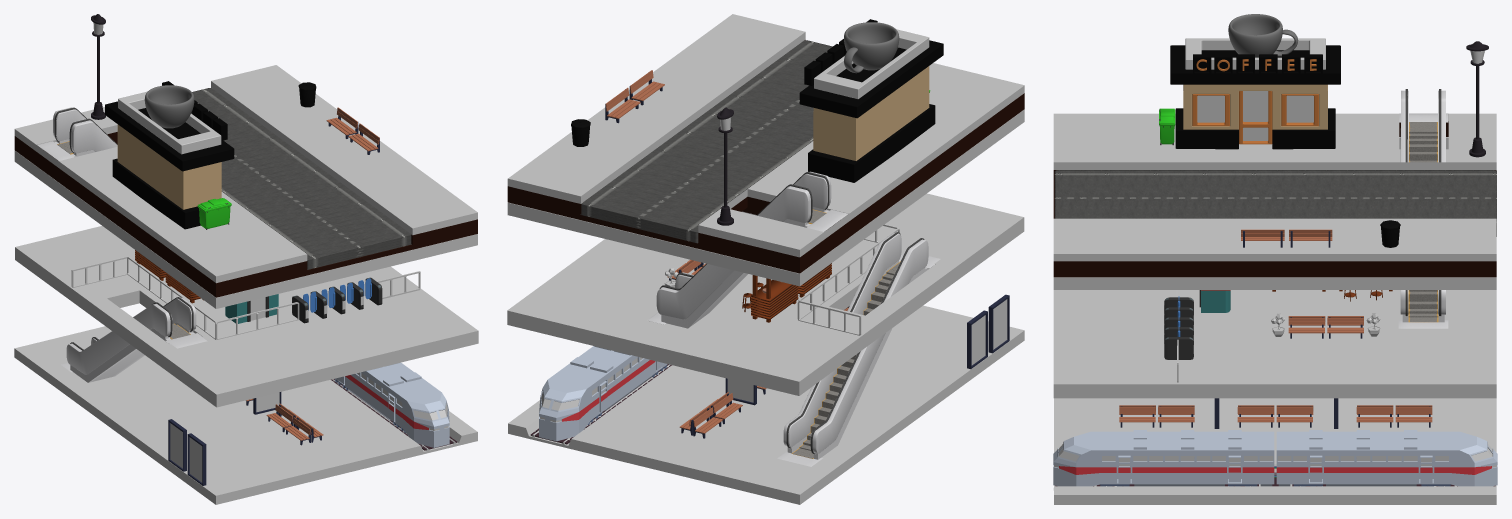
Rendered from DioramaFinal_forWebGPU.obj.
3 views of the same model, side by side, from view 1: azimuth 30°, elevation 25°; view 2: azimuth 150°, elevation 25°; view 3: azimuth 270°, elevation 25° (orthographic). The views are drawn at different scales.
Parts seen in each view (by area): view 1: Plane, Platform, Cube.015, Road, Cube.016, Plane.016, Train, SMS_Escalator_02.001, Plane.004, Plane.005, SMS_Escalator_02, Plane.006 (+7 smaller); view 2: Plane, Platform, Cube.015, Road, SMS_Escalator_02.001, Cube.016, Plane.016, Train, SMS_Escalator_02, Plane.004, Plane.005, Plane.015 (+9 smaller); view 3: Plane, Cube.015, Train, Road, Platform, Cube.016, Plane.016, Plane.004, SMS_Escalator_02, Plane.005, Plane.015, Circle (+16 smaller).
Part boxes in pixels (box(x1,y1,x2,y2)): Plane: box(15, 226, 478, 407); Platform: box(14, 326, 477, 504); Cube.015: box(14, 65, 477, 283); Road: box(192, 88, 411, 269); Cube.016: box(14, 132, 477, 297); Plane.016: box(14, 150, 477, 308); Train: box(334, 362, 449, 447); SMS_Escalator_02.001: box(61, 297, 207, 382); Plane.004: box(117, 124, 221, 209); Plane.005: box(105, 101, 234, 171); SMS_Escalator_02: box(37, 107, 117, 160); Plane.006: box(118, 91, 221, 154); Plane: box(507, 193, 1024, 395); Platform: box(508, 305, 1024, 504); Cube.015: box(507, 14, 1024, 257); Road: box(580, 40, 832, 243); SMS_Escalator_02.001: box(777, 232, 940, 466); Cube.016: box(507, 40, 1024, 273); Plane.016: box(507, 109, 1024, 286); Train: box(539, 346, 667, 441); SMS_Escalator_02: box(647, 171, 847, 328); Plane.004: box(813, 66, 929, 160); Plane.005: box(799, 40, 943, 118); Plane.015: box(808, 104, 935, 182); Plane: box(1053, 290, 1496, 398); Cube.015: box(1053, 113, 1496, 261); Train: box(1053, 430, 1497, 486); Road: box(1054, 170, 1496, 236); Platform: box(1053, 398, 1496, 504); Cube.016: box(1053, 121, 1496, 277); Plane.016: box(1053, 137, 1496, 289); Plane.004: box(1183, 84, 1327, 140); SMS_Escalator_02: box(1398, 89, 1448, 328); Plane.005: box(1170, 45, 1340, 84); Plane.015: box(1175, 108, 1335, 149); Circle: box(1228, 14, 1282, 57).
Bounding box in the file's own units: 60.13 × 72.63 × 80.28.
